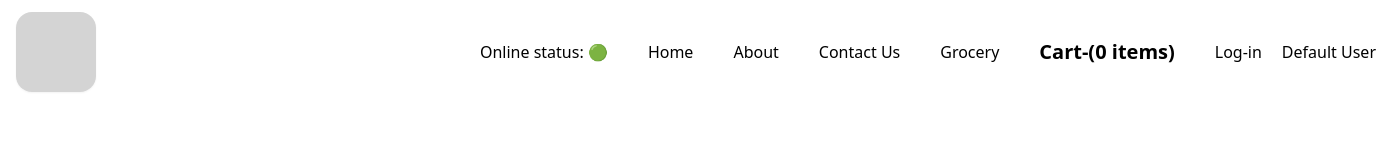
it: Should render Logout after clicking login button
The image size is (1393, 160).
Click the button "Log-in": [1238, 52] box 1215,40 -> 1262,64
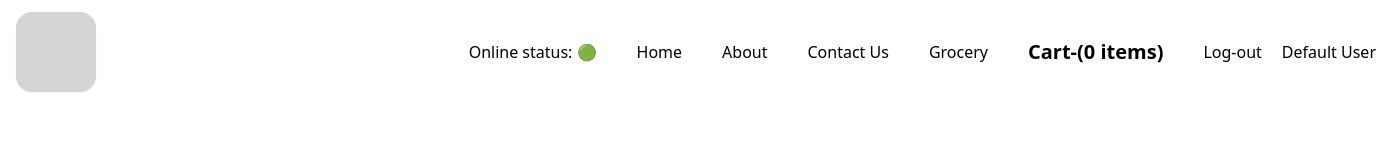
Result: the button "Log-out" is shown at 1204,40 -> 1262,64
